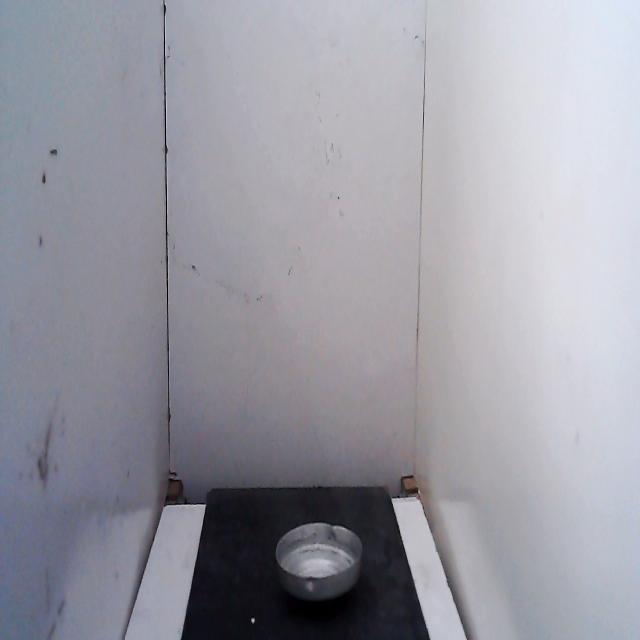metal: (263, 507, 377, 618)
